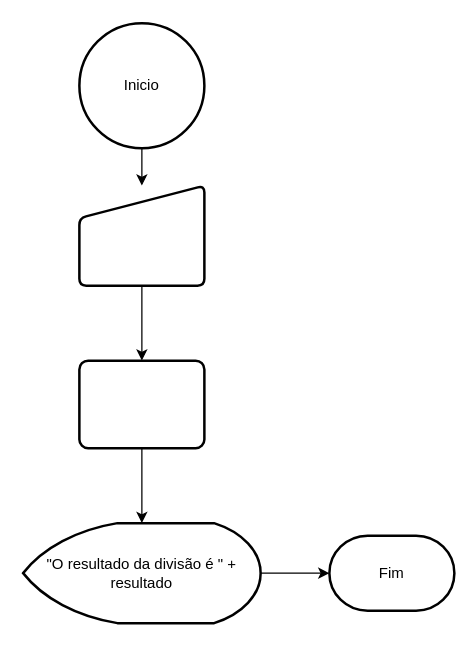
Image size: 476x645. Some labels were removed from this diagram. The centre of each missing label's shape, as x and y in pixels:
"resultado = valor1/valor2" belongs at pixel 141 404.
"valor1, valor2, resultado" belongs at pixel 141 235.
